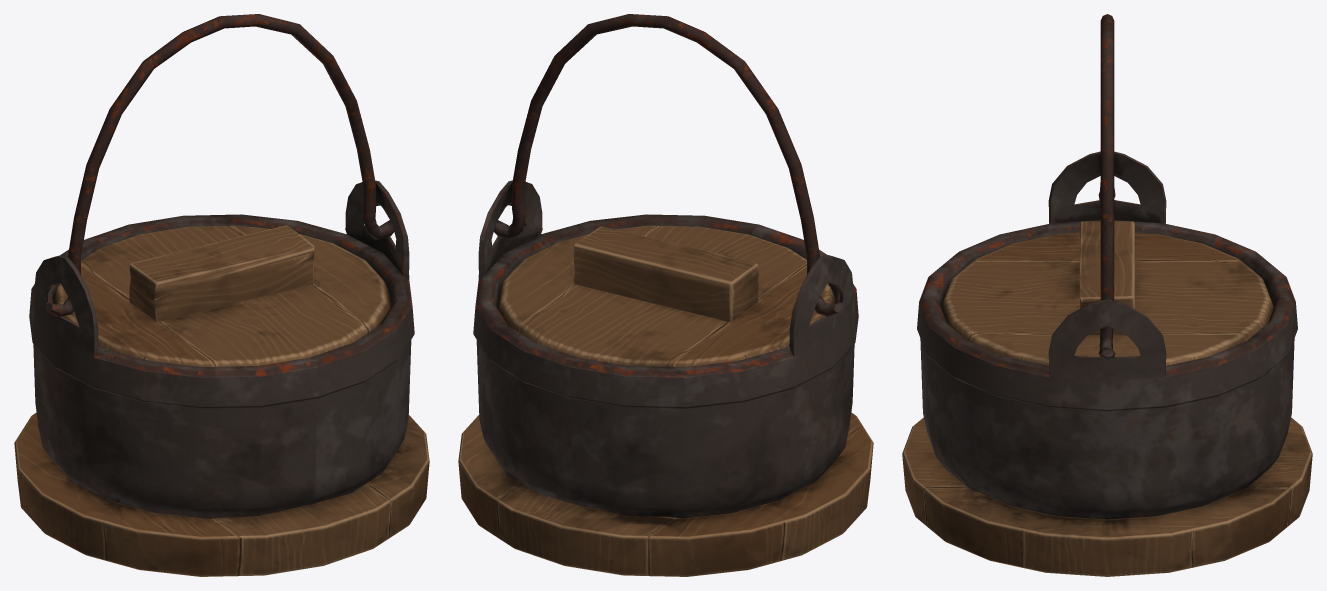
Rendered from a2_deco_pot_01_.fbx.
The picture shows the model from 3 angles, left to right: view 1: azimuth 30°, elevation 25°; view 2: azimuth 150°, elevation 25°; view 3: azimuth 270°, elevation 25°; orthographic projection.
Parts seen in each view (by area): view 1: a2_deco_pot_01_; view 2: a2_deco_pot_01_; view 3: a2_deco_pot_01_.
Part boxes in pixels (<box>): a2_deco_pot_01_: <box>14,14,429,576</box>; a2_deco_pot_01_: <box>458,14,873,576</box>; a2_deco_pot_01_: <box>902,14,1312,576</box>.
Size of the model in its own units: 63.64 by 79.93 by 63.64.
1 material, 1 textured.
